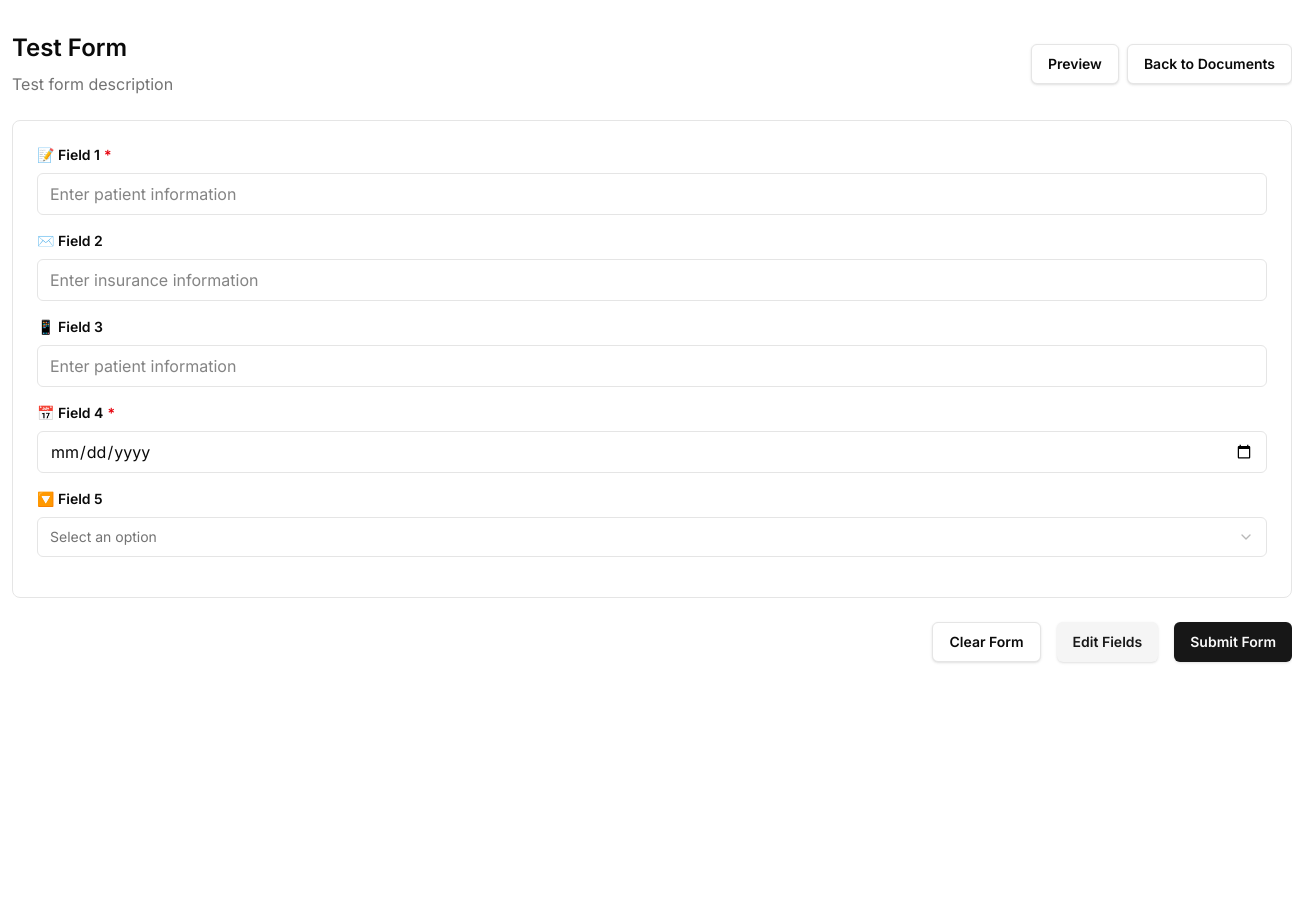
Test case: FormBuilder › Form Interactions › selects dropdown options
Note: Click the select trigger to open the dropdown
Click the dropdown at (103, 536), box [37,517,1267,557]
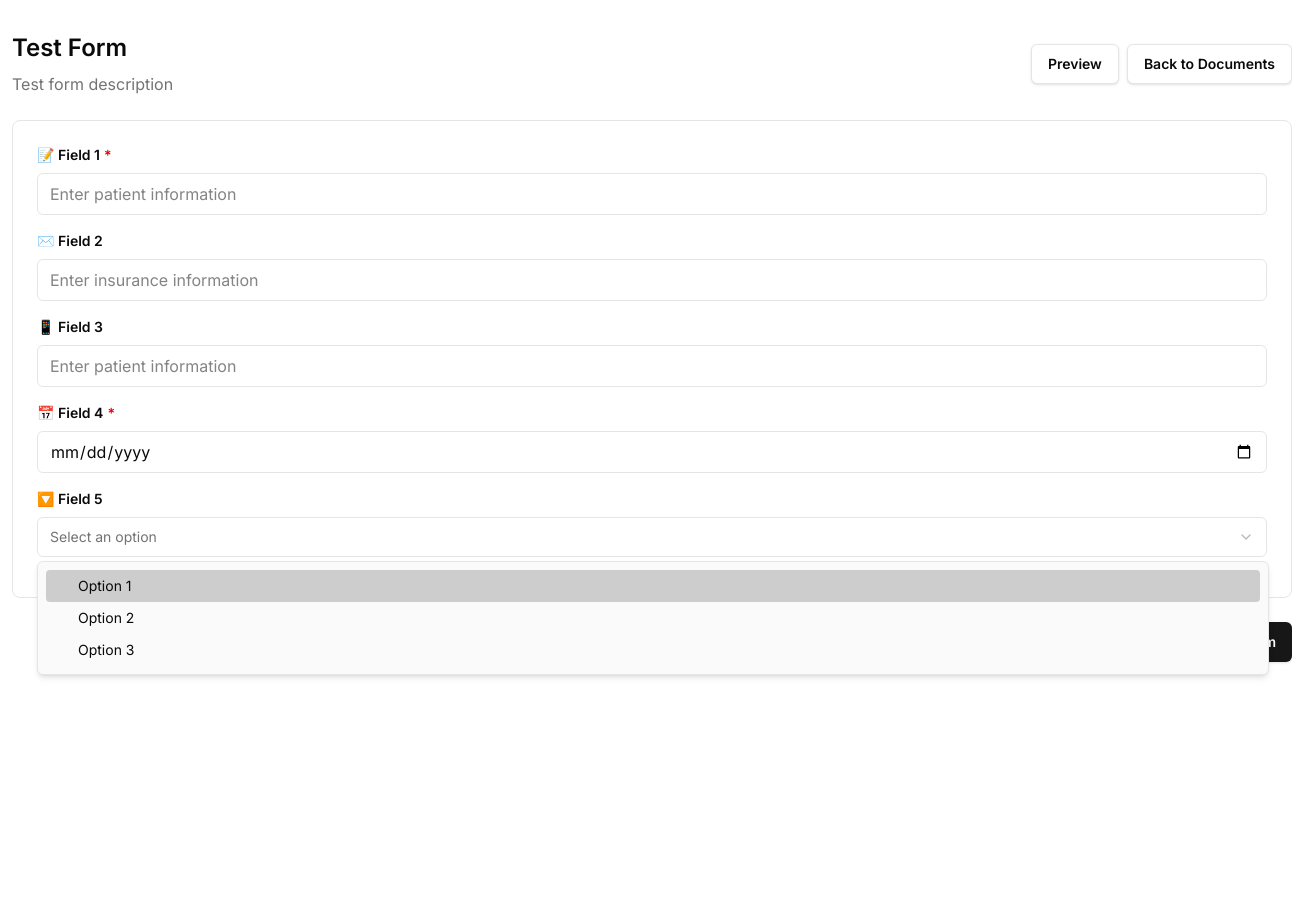
Note: Click on the dropdown item (not the displayed value)
Click the option "Option 2" at (106, 618), box [78,609,134,626]
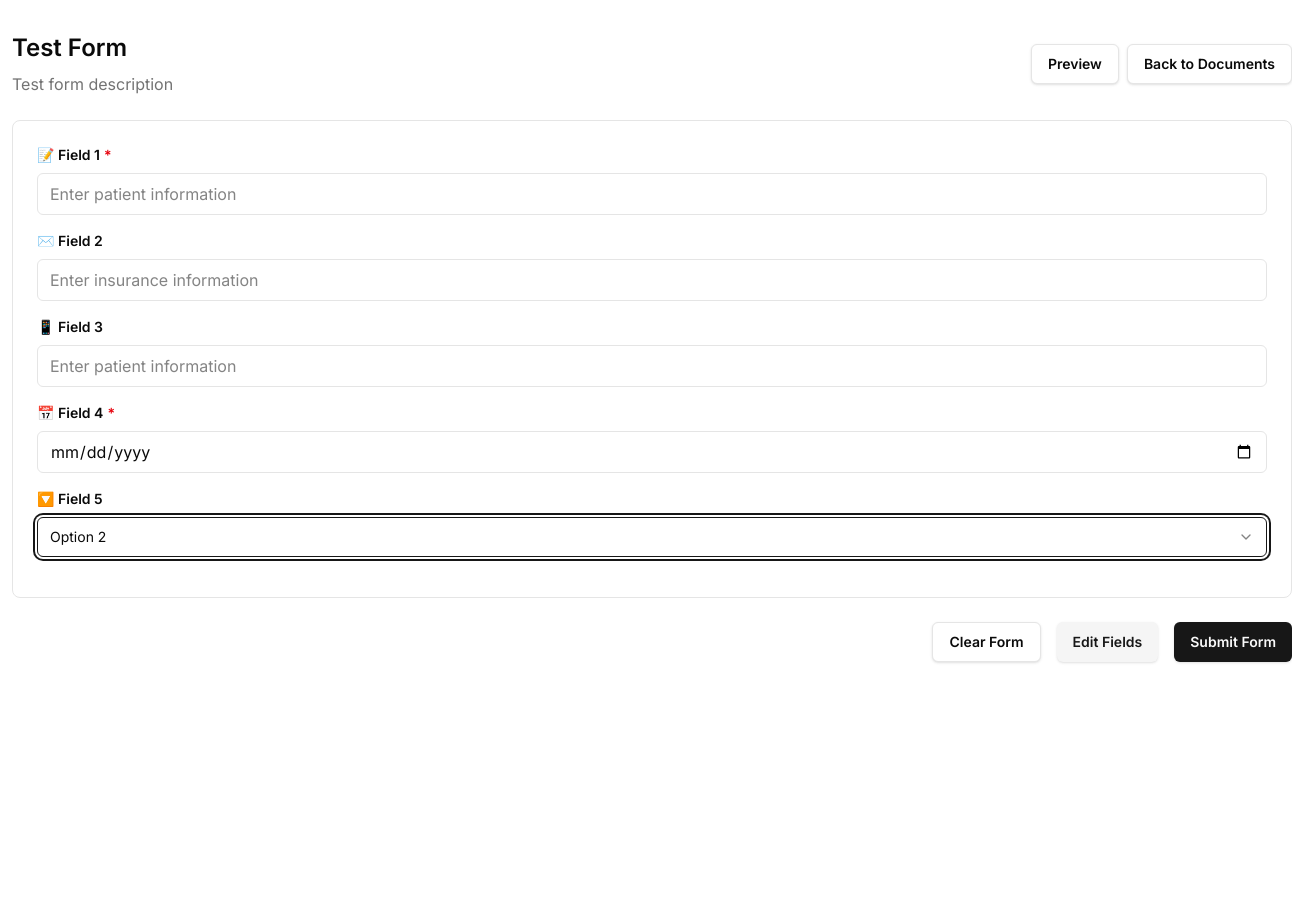
Expected: the dropdown labelled "Option 2" is shown, [37,517,1267,557]
